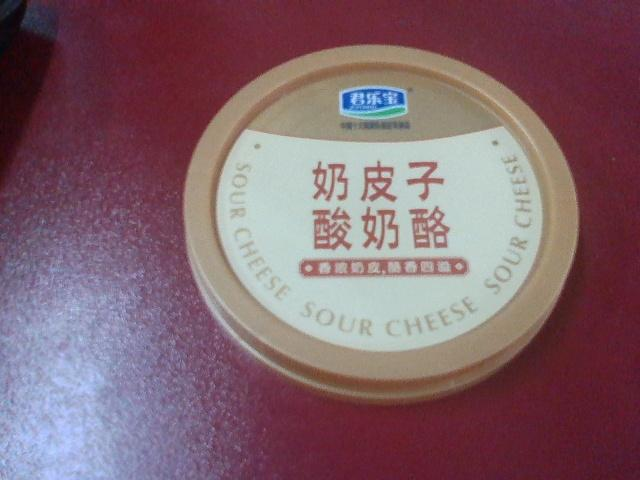lid: (168, 32, 584, 408)
